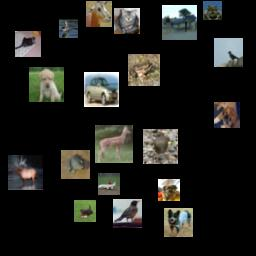airplane: (162, 5, 197, 40), (98, 173, 120, 195)
automobile: (84, 72, 119, 107)
bird: (143, 129, 178, 164), (214, 38, 243, 67), (113, 199, 142, 228), (59, 19, 78, 38)
cat: (15, 31, 41, 57), (114, 8, 140, 34)
deer: (95, 125, 133, 163), (8, 155, 43, 190), (86, 1, 112, 27)
dog: (29, 67, 64, 102), (164, 208, 193, 237), (214, 102, 240, 128), (158, 179, 180, 201), (74, 200, 96, 222)
frog: (128, 54, 160, 86), (61, 150, 90, 179), (203, 1, 222, 20)
